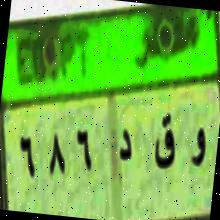6: (13, 127, 42, 192), (70, 124, 96, 178)
8: (44, 131, 68, 185)
daal: (113, 120, 136, 170)
qaaf: (149, 107, 179, 178)
waw: (185, 120, 209, 175)
